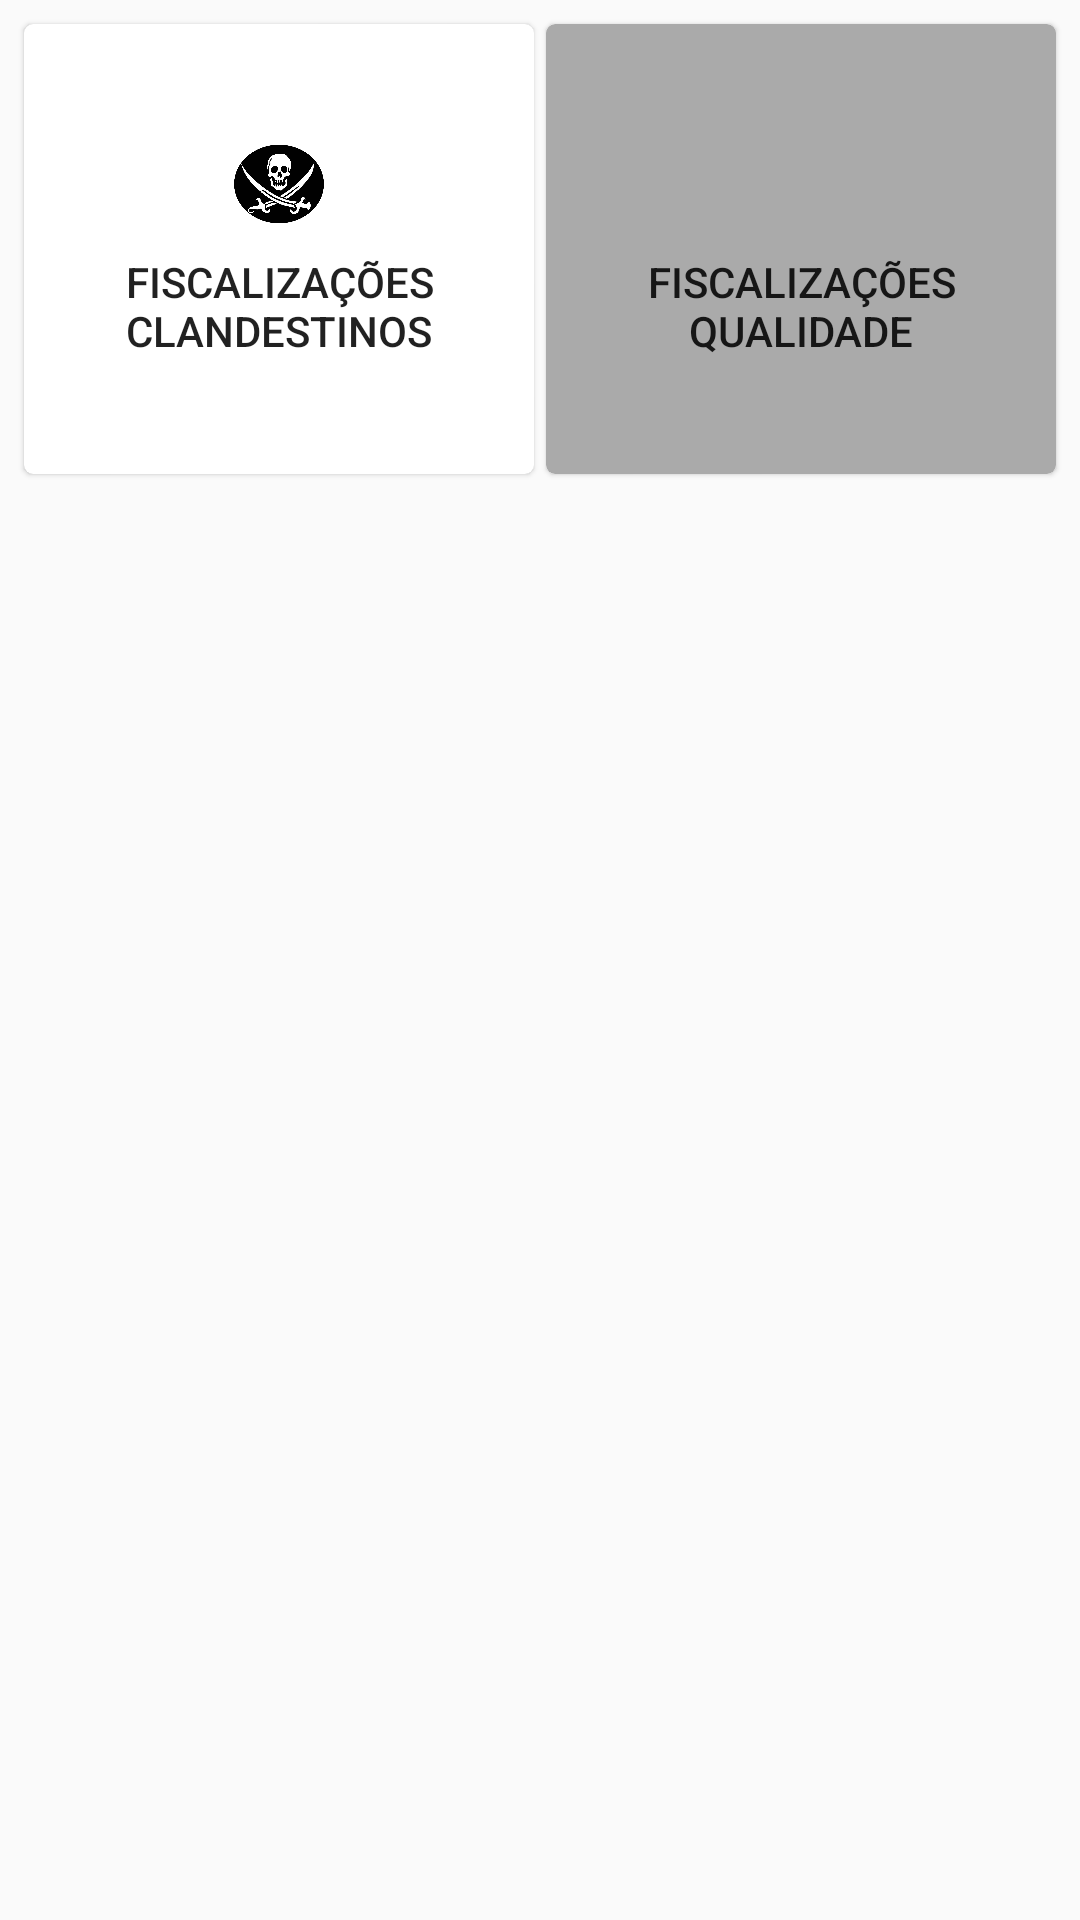

Locate icon controls on the screen. Image size 1080 × 1920, boxes as (x1, y1, x2, y2).
pirata: (234, 145, 324, 223)
